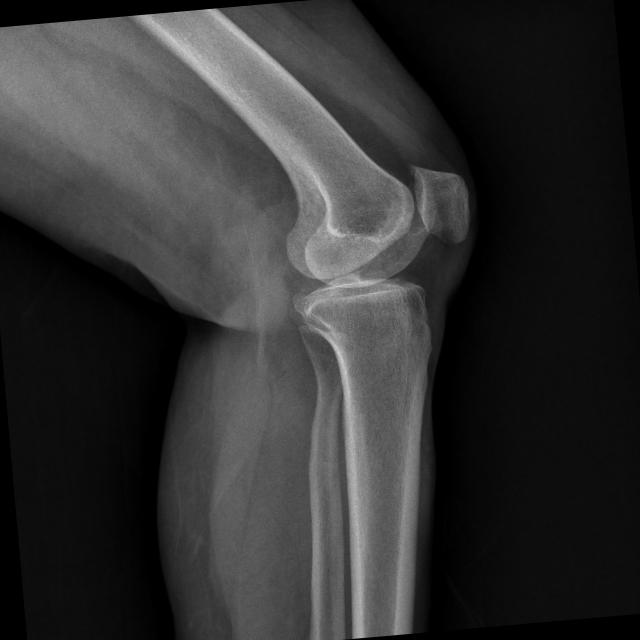Knee: (266, 132, 482, 348)
